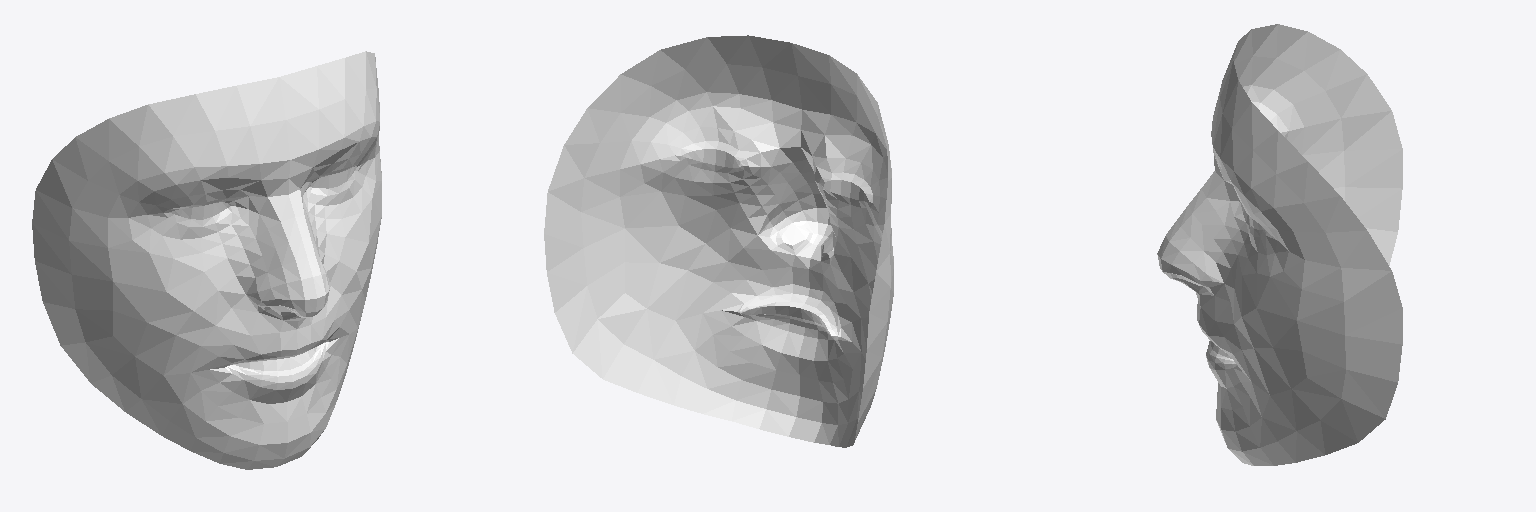
The model's file is canonical_face_model.obj.
The picture shows the model from 3 angles: view 1: azimuth 30°, elevation 25°; view 2: azimuth 150°, elevation 25°; view 3: azimuth 270°, elevation 25°; orthographic projection.
Bounding box in the file's own units: 15.49 × 17.67 × 10.02.